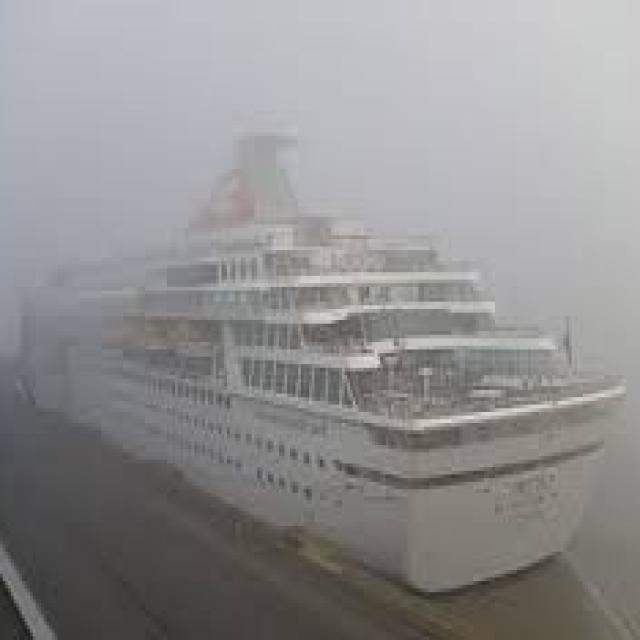passenger ship: (23, 125, 624, 576)
